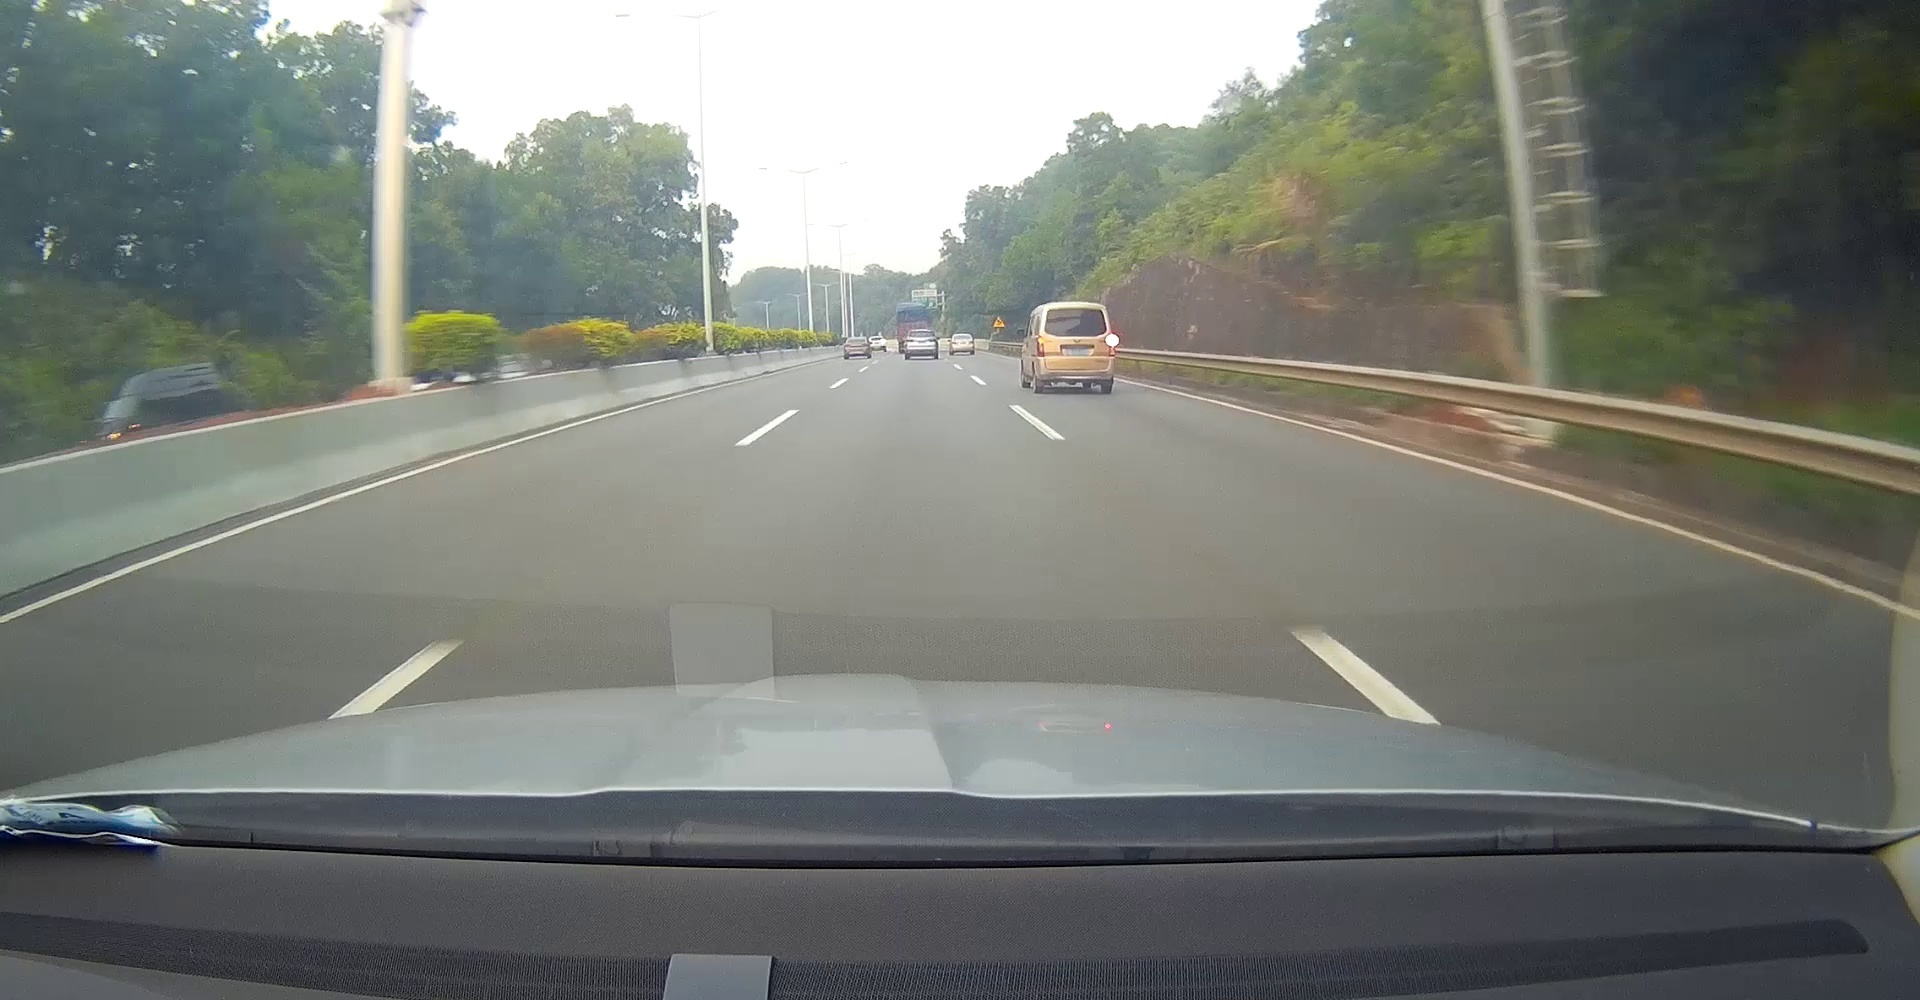L_light: (1037, 335, 1044, 357), (905, 338, 914, 341)
R_light: (1109, 334, 1115, 357), (930, 338, 937, 341)
T_light: (1069, 308, 1081, 311), (918, 331, 924, 332)
day-no: (904, 329, 938, 359)
day-right: (1036, 302, 1115, 393)
